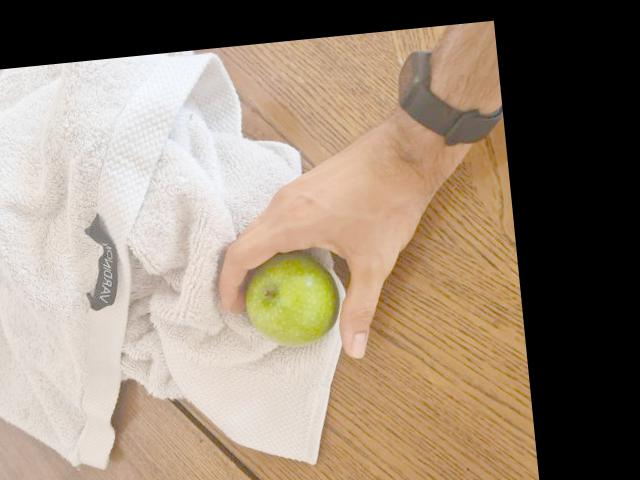apple: (250, 237, 346, 356)
